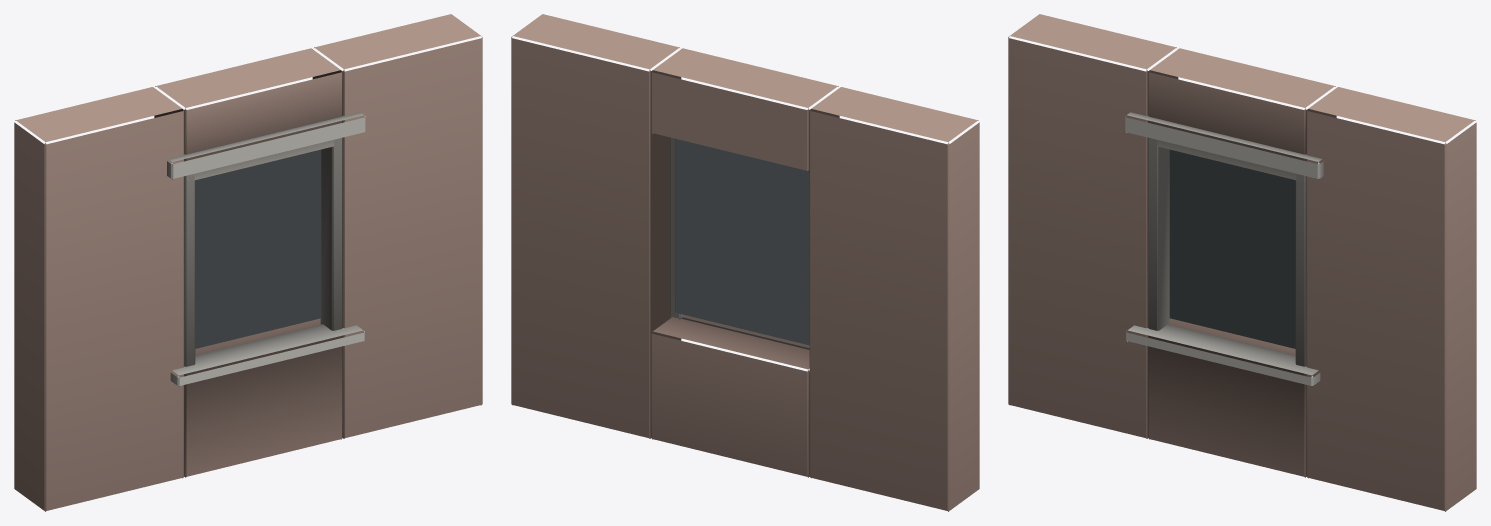
Rendered from bay_brick_residential.glb.
3 views of the same model, side by side, from view 1: azimuth 30°, elevation 25°; view 2: azimuth 150°, elevation 25°; view 3: azimuth 330°, elevation 25° (orthographic).
Parts seen in each view (by area): view 1: facade_bay_brick_residential; view 2: facade_bay_brick_residential; view 3: facade_bay_brick_residential.
Part boxes in pixels (x1,y1,x2,y2): facade_bay_brick_residential: [14, 14, 482, 511]; facade_bay_brick_residential: [511, 14, 979, 511]; facade_bay_brick_residential: [1008, 14, 1476, 511].
Size of the model in its own units: 3.6 by 2.9 by 0.56.
